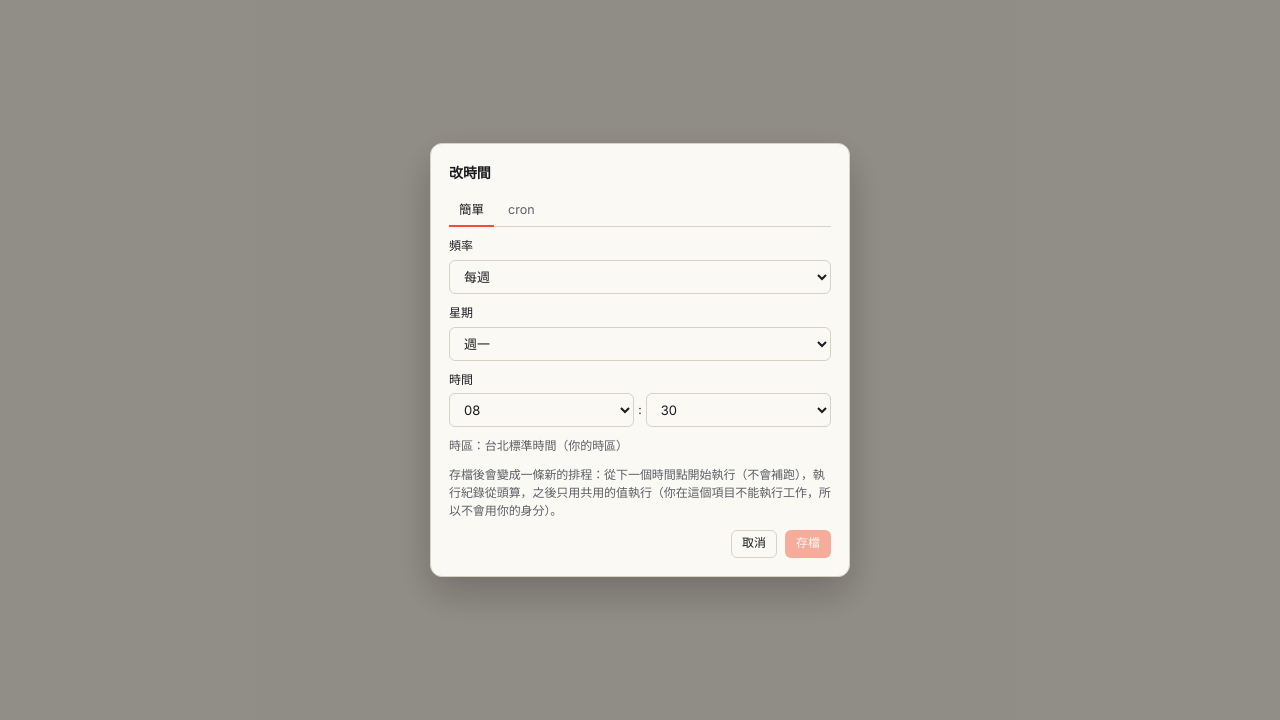
Test: ScheduleTimeModal — 簡單 / cron (docs/plan-schedule-cron.md decision 4) › switching 簡單 → cron fills the same time as a cron
Click the tab "cron". click: [521, 211]
box: [498, 194, 544, 227]
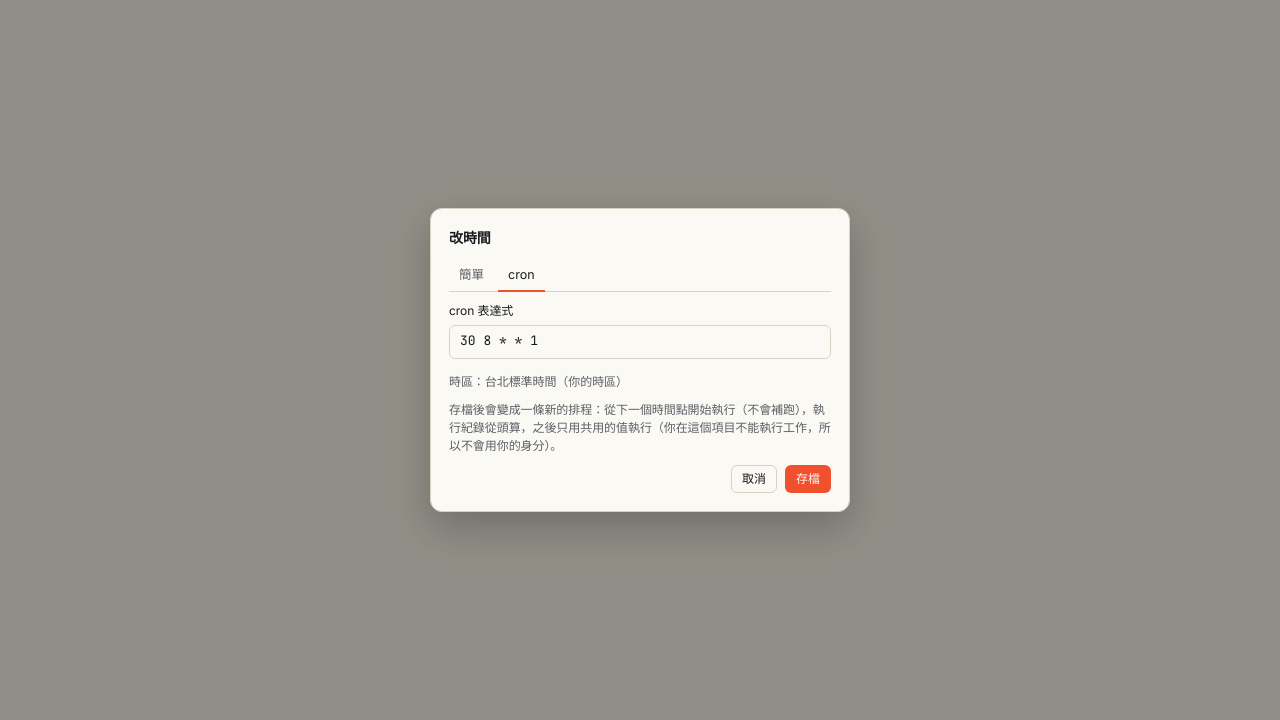
Expected: the field labelled "cron 表達式" holds "30 8 * * 1", [449, 324, 831, 358]
